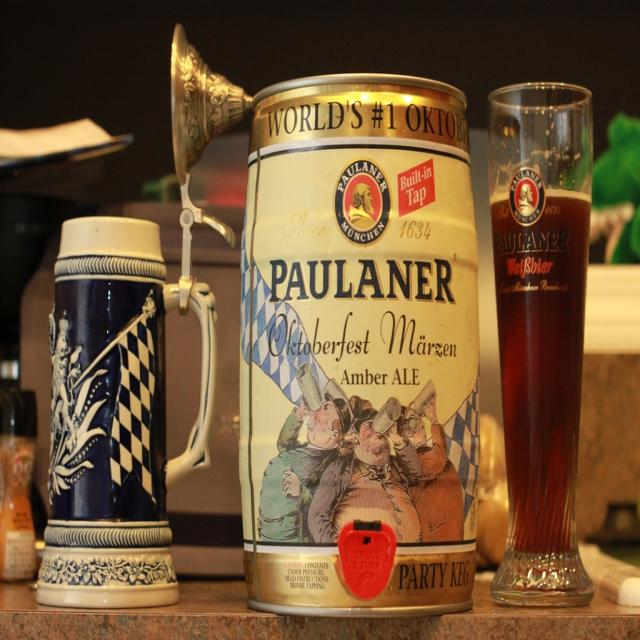paulaner: (336, 161, 392, 246), (509, 169, 546, 226)
